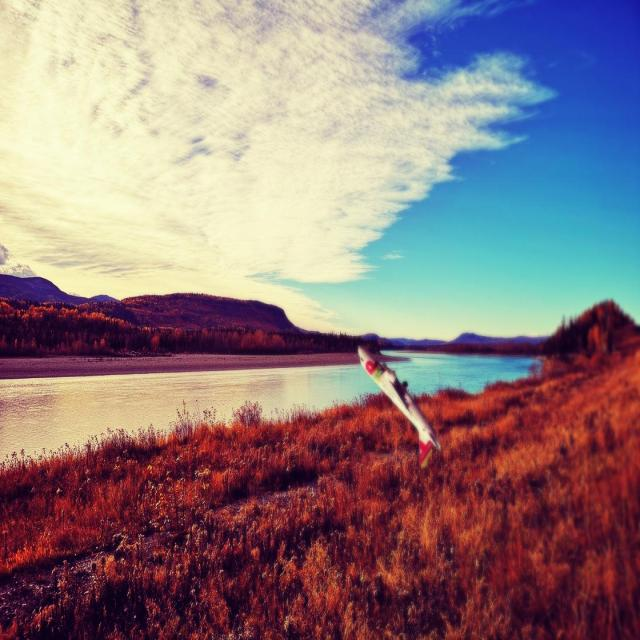airplane: (356, 344, 442, 468)
